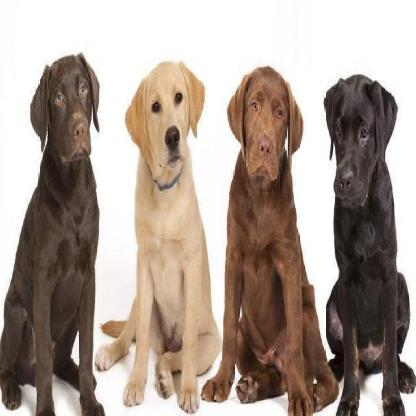Labarador Retriever: (82, 49, 221, 405), (199, 64, 337, 415), (0, 42, 102, 416), (324, 74, 410, 416)
